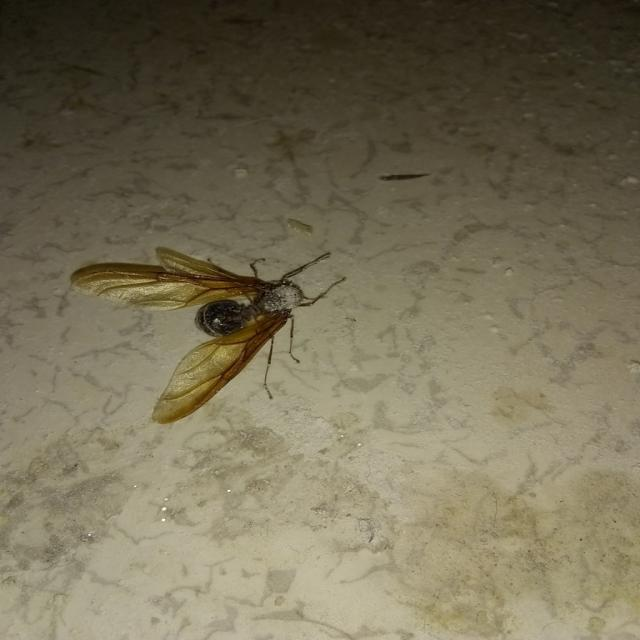Alive-Male-Alate: (71, 252, 348, 424)
